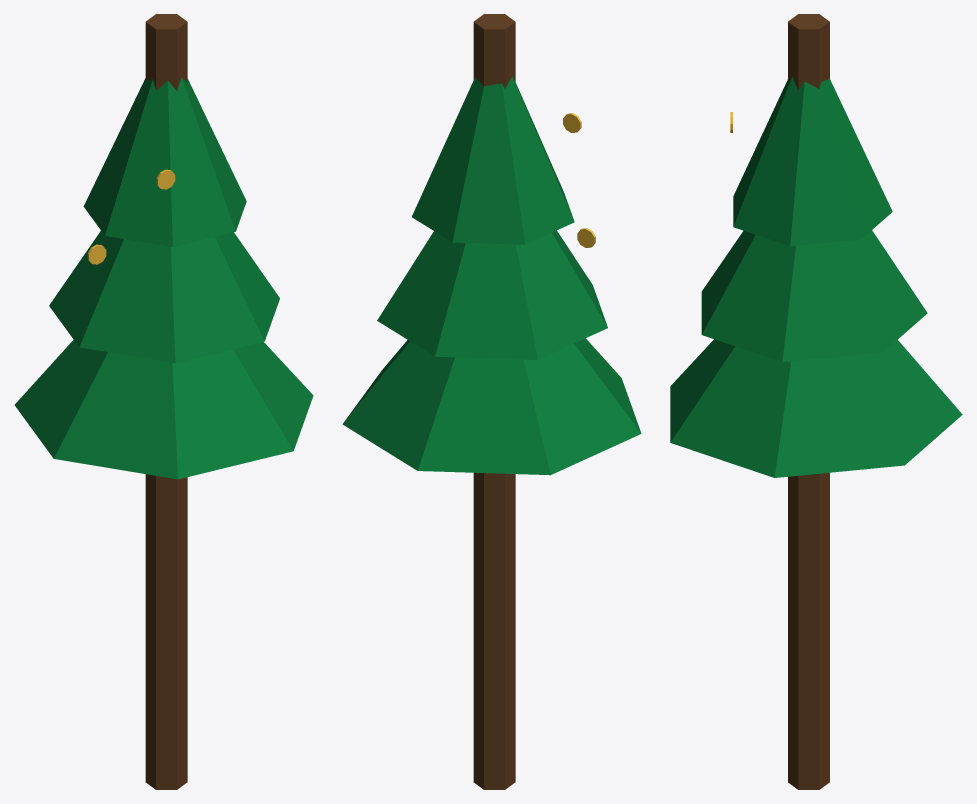
The model's file is Prop_OR_LedgerTree_04.glb.
3 views of the same model, side by side, from view 1: azimuth 30°, elevation 25°; view 2: azimuth 150°, elevation 25°; view 3: azimuth 270°, elevation 25° (orthographic).
Parts seen in each view (by area): view 1: Prop_OR_LedgerTree_04; view 2: Prop_OR_LedgerTree_04; view 3: Prop_OR_LedgerTree_04.
Boxes of the visible parts, bbox=[...] form: Prop_OR_LedgerTree_04: bbox=[14, 14, 313, 789]; Prop_OR_LedgerTree_04: bbox=[342, 14, 641, 789]; Prop_OR_LedgerTree_04: bbox=[670, 14, 962, 789].
Bounding box in the file's own units: 2.14 × 6 × 2.09.
